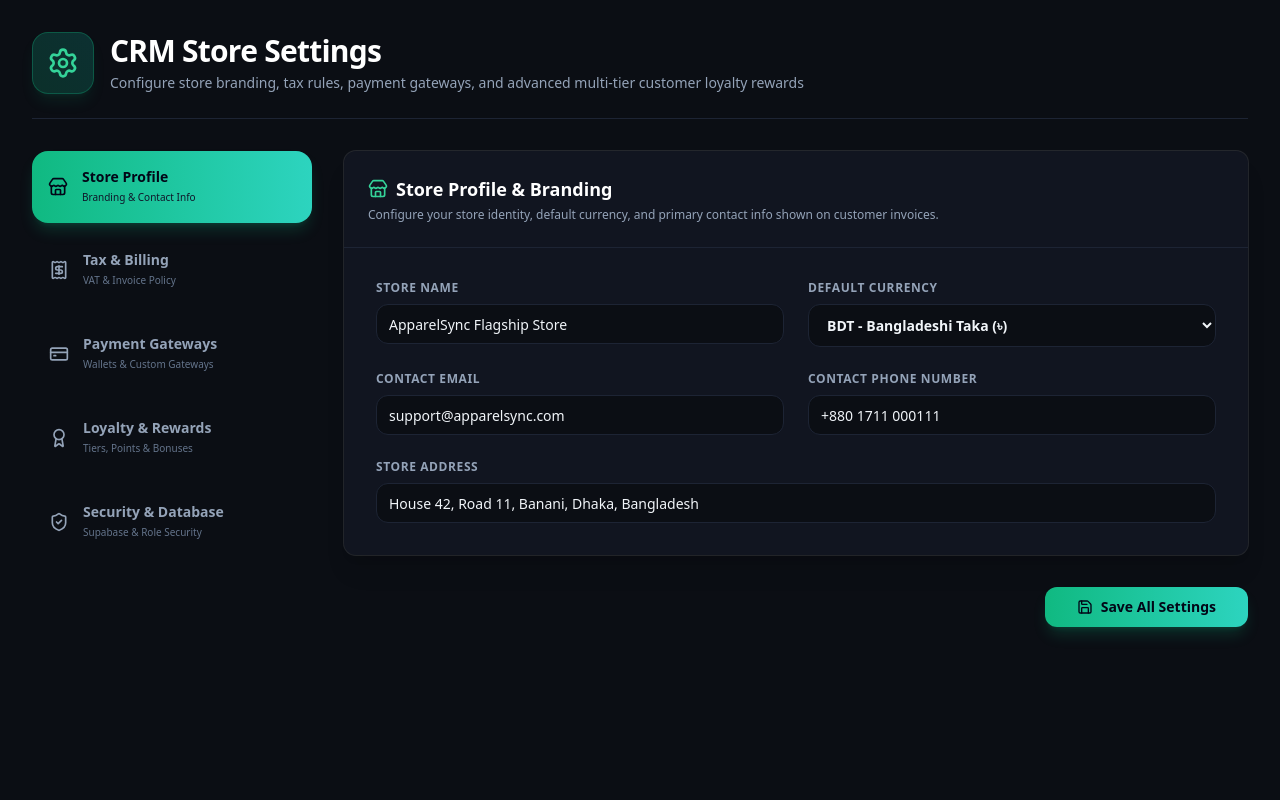
Test: CRM Settings Page Integration Tests › renders detailed multi-tier loyalty rules configuration
Click the text "Loyalty & Rewards" at (147, 428), box [83,418,211,438]
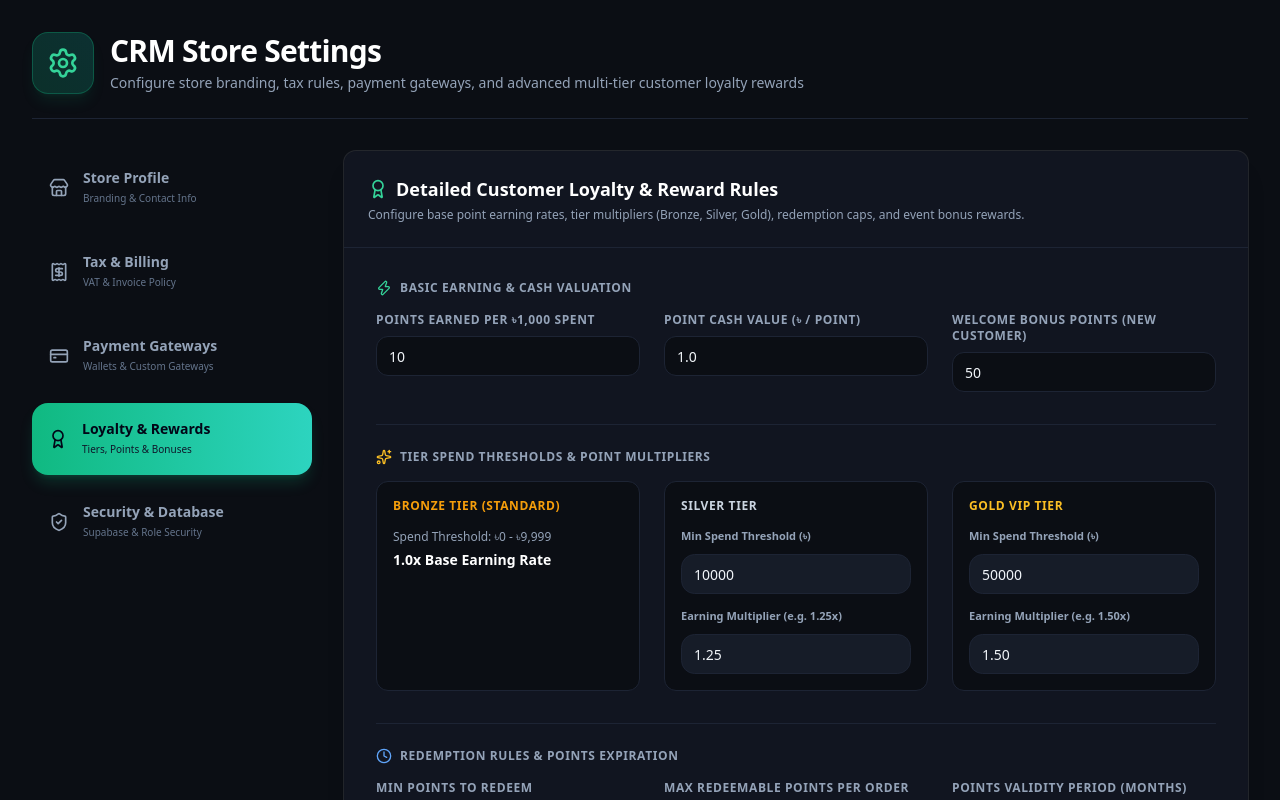
expect the text "Detailed Customer Loyalty & Reward Rules" is shown: met, box [368,177,778,201]
expect the text "Bronze Tier (Standard)" is shown: met, box [393,497,560,514]
expect the text "Silver Tier" is shown: met, box [681,497,757,514]
